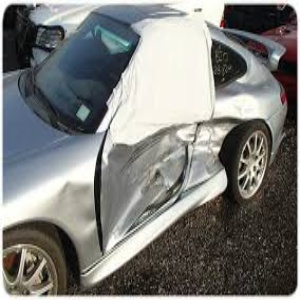door: (122, 128, 221, 207)
